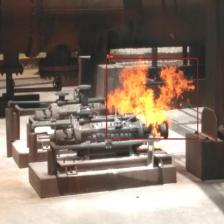fire: (106, 58, 198, 139)
